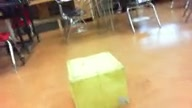cube: (66, 51, 130, 108)
